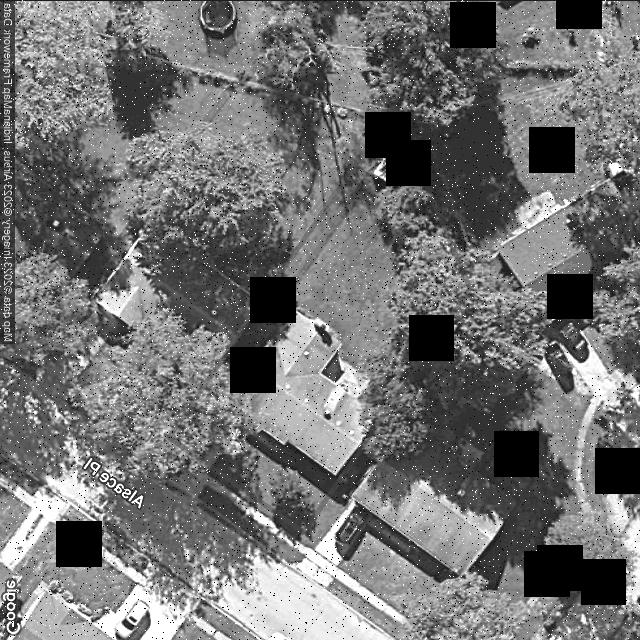Driveway: (193, 406, 244, 464), (322, 354, 371, 398)
Extra Driveway: (163, 471, 207, 498)
Extra Lawn: (195, 484, 292, 563)
Extra Sidewalk: (199, 473, 300, 550)
House: (222, 312, 376, 474)
Other: (373, 158, 395, 181)
